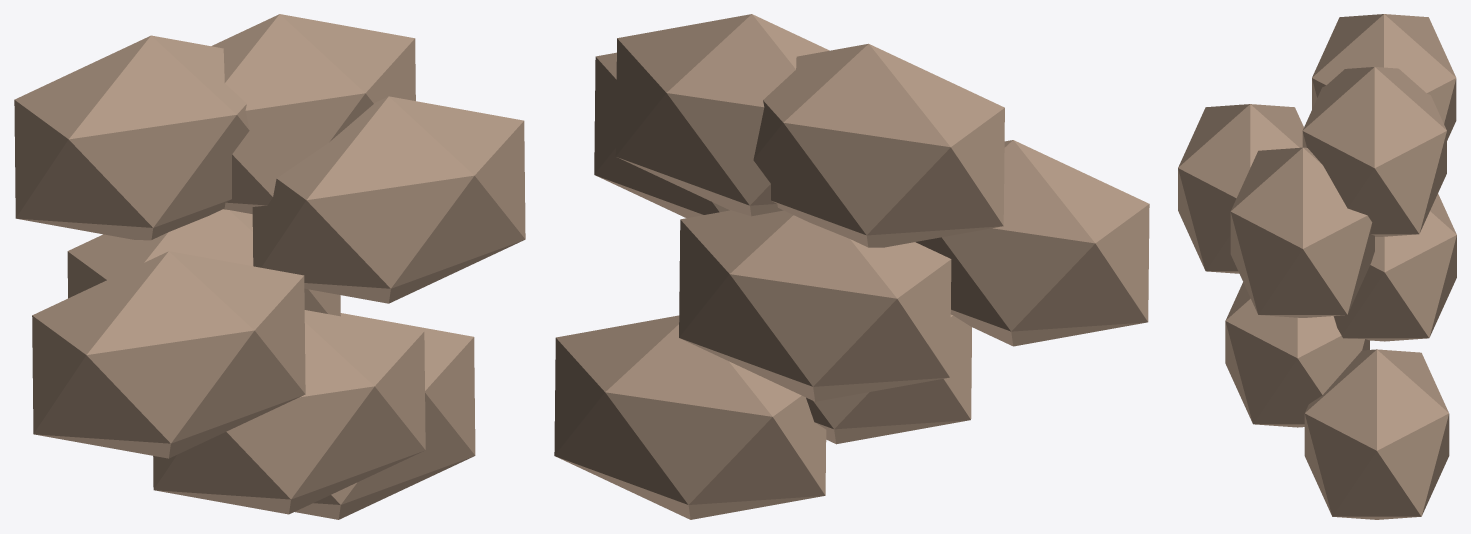
Rendered from ore-3.glb.
3 views of the same model, side by side, from view 1: azimuth 30°, elevation 25°; view 2: azimuth 150°, elevation 25°; view 3: azimuth 270°, elevation 25° (orthographic). The views are drawn at different scales.
Parts seen in each view (by area): view 1: Ironium metallic nugget, Ironium metallic nugget.002, Ironium metallic nugget.001, Ironium metallic nugget.003, Ironium metallic nugget.004, Ironium metallic nugget.005, Ironium metallic nugget.006; view 2: Ironium metallic nugget.006, Ironium metallic nugget.005, Ironium metallic nugget.001, Ironium metallic nugget, Ironium metallic nugget.004, Ironium metallic nugget.003, Ironium metallic nugget.002; view 3: Ironium metallic nugget.005, Ironium metallic nugget.002, Ironium metallic nugget.004, Ironium metallic nugget.003, Ironium metallic nugget, Ironium metallic nugget.006, Ironium metallic nugget.001.
Boxes of the visible parts, bbox=[...] form: Ironium metallic nugget: bbox=[32, 251, 305, 458]; Ironium metallic nugget.002: bbox=[252, 96, 525, 303]; Ironium metallic nugget.001: bbox=[14, 35, 249, 240]; Ironium metallic nugget.003: bbox=[153, 310, 425, 514]; Ironium metallic nugget.004: bbox=[211, 14, 415, 213]; Ironium metallic nugget.005: bbox=[295, 313, 475, 519]; Ironium metallic nugget.006: bbox=[67, 209, 340, 316]; Ironium metallic nugget.006: bbox=[679, 210, 951, 401]; Ironium metallic nugget.005: bbox=[554, 315, 826, 519]; Ironium metallic nugget.001: bbox=[753, 43, 1004, 247]; Ironium metallic nugget: bbox=[915, 140, 1149, 346]; Ironium metallic nugget.004: bbox=[615, 14, 829, 216]; Ironium metallic nugget.003: bbox=[806, 314, 971, 444]; Ironium metallic nugget.002: bbox=[594, 52, 729, 218]; Ironium metallic nugget.005: bbox=[1304, 349, 1449, 519]; Ironium metallic nugget.002: bbox=[1230, 147, 1374, 317]; Ironium metallic nugget.004: bbox=[1302, 67, 1446, 236]; Ironium metallic nugget.003: bbox=[1225, 282, 1369, 427]; Ironium metallic nugget: bbox=[1178, 104, 1303, 273]; Ironium metallic nugget.006: bbox=[1333, 193, 1456, 341]; Ironium metallic nugget.001: bbox=[1312, 14, 1456, 140].
Bounding box in the file's own units: 1.37 × 1.31 × 0.7684.
